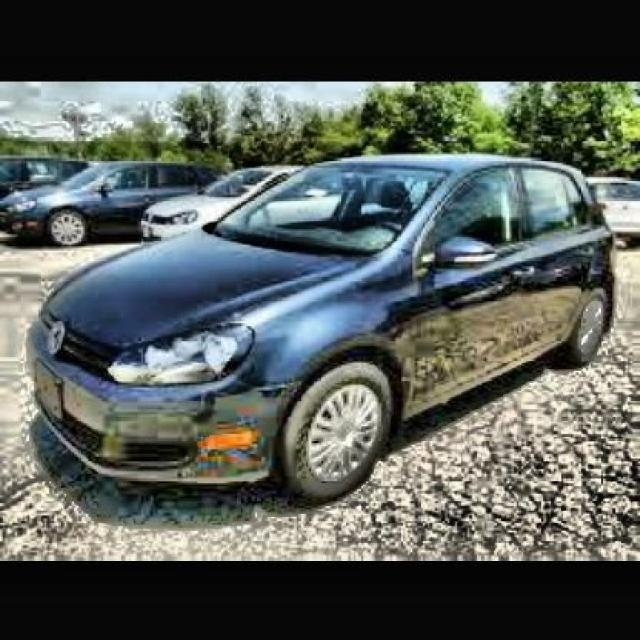black: (21, 155, 629, 485)
